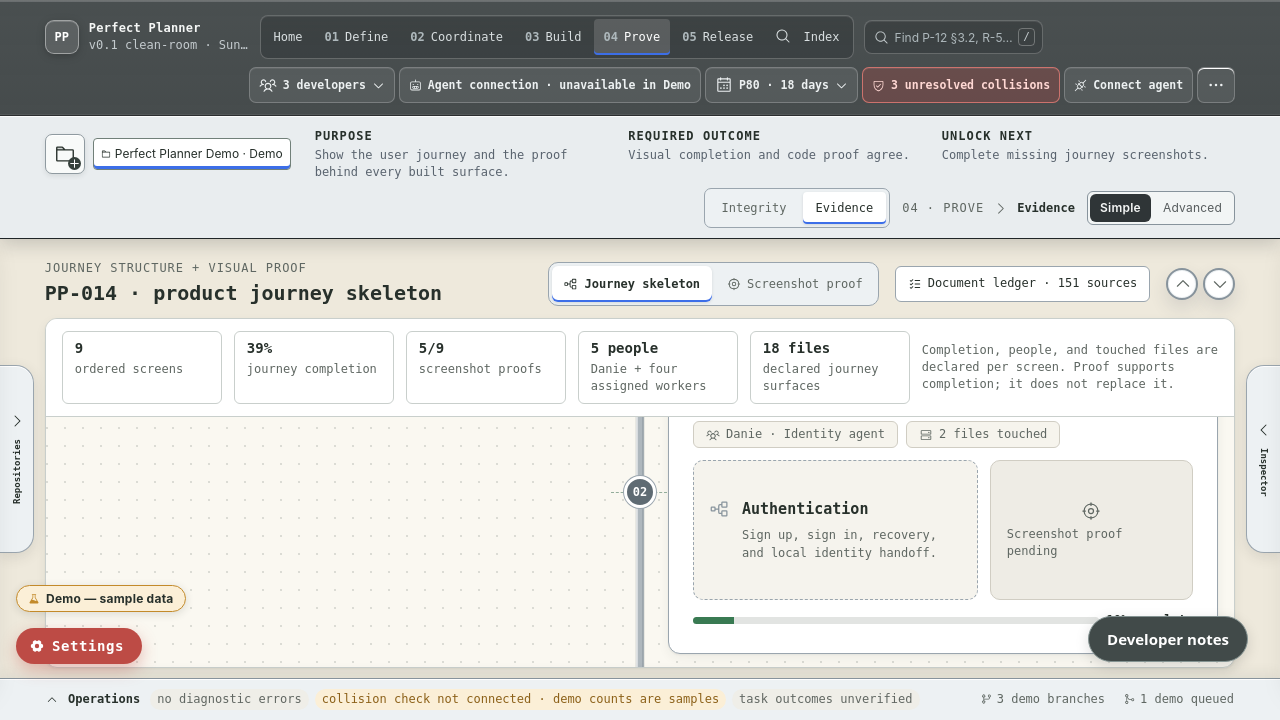
Perfect Planner shell interaction and accessibility › workspace navigation closes stale inspector state
(page scrolled)
Click the button named "J02Authentication".
click(943, 492)  # box x1=668 y1=331 x2=1218 y2=654
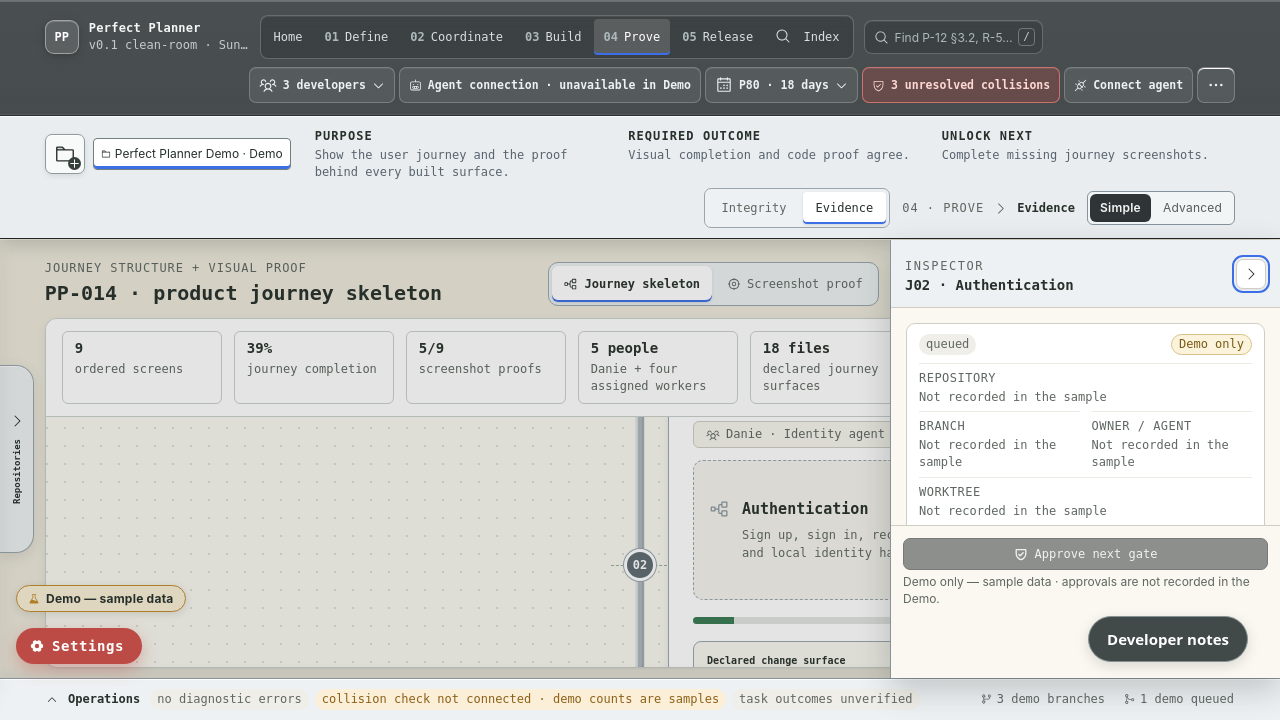
Expected: the heading "J02 · Authentication" is shown, x1=905 y1=277 x2=1074 y2=293
Click the button "05Release".
click(718, 37)  # box x1=672 y1=19 x2=763 y2=55
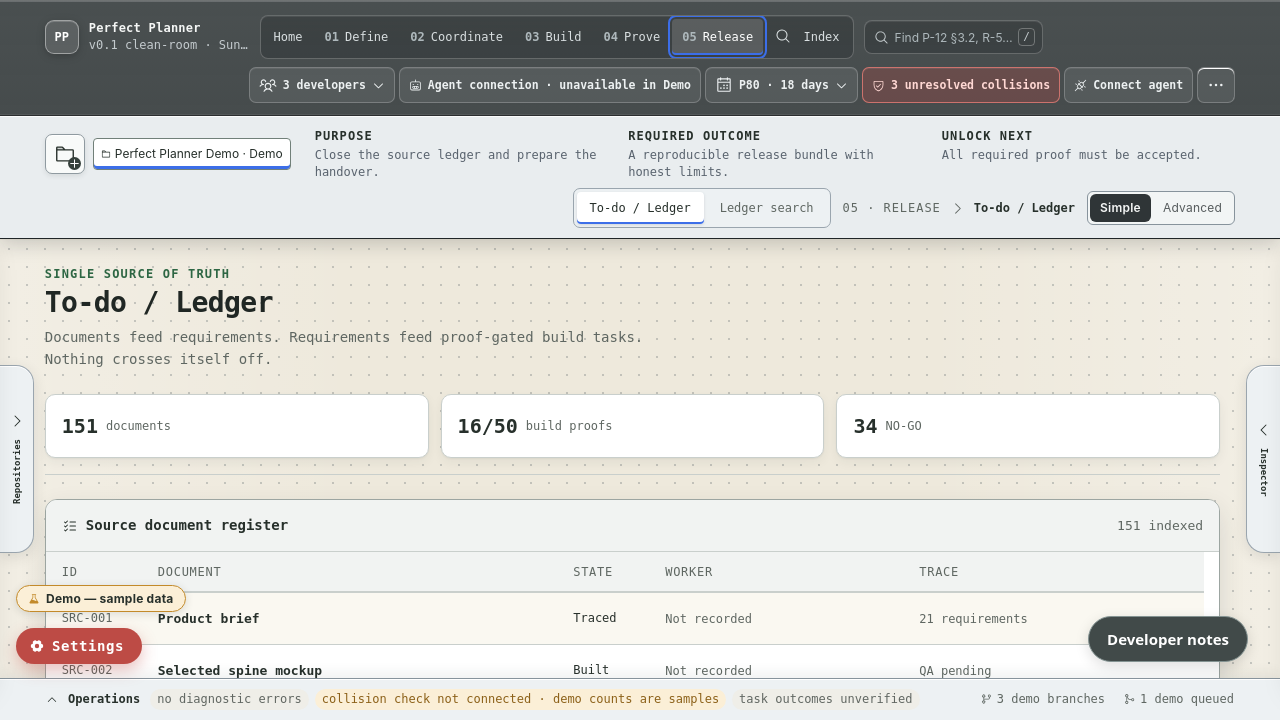
Expected: the element named "To-do and document ledger" is shown
